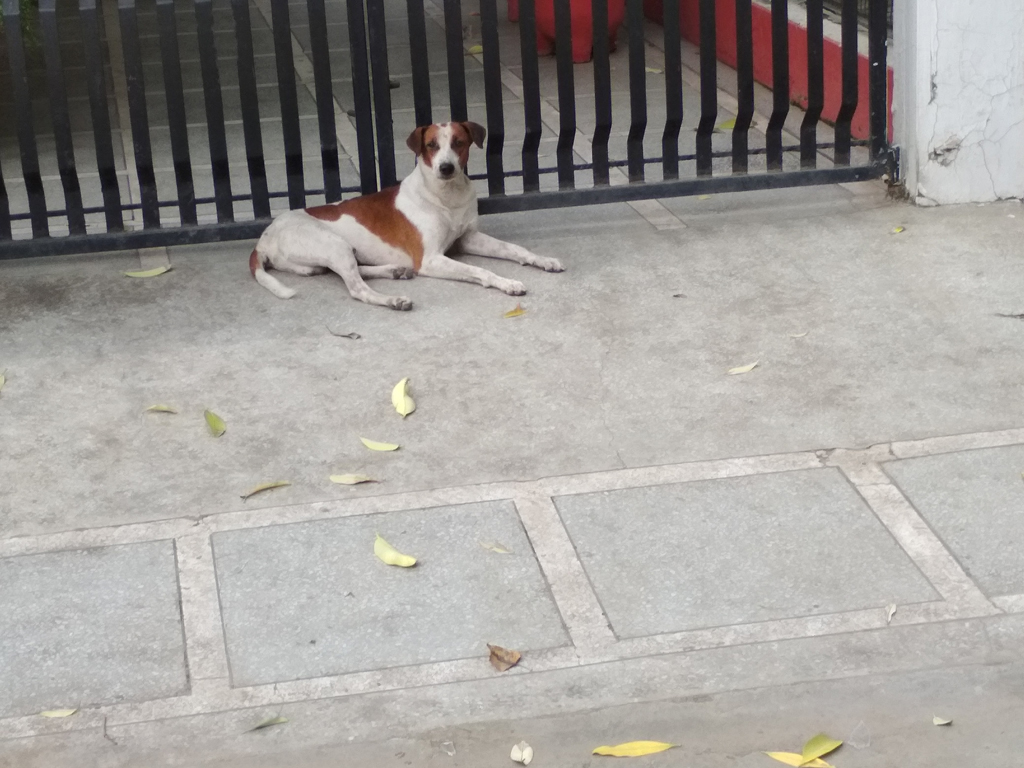dog: (251, 123, 566, 312)
